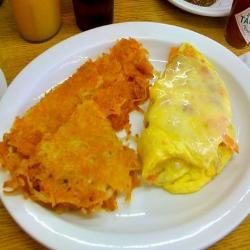omelette: (128, 46, 241, 202)
